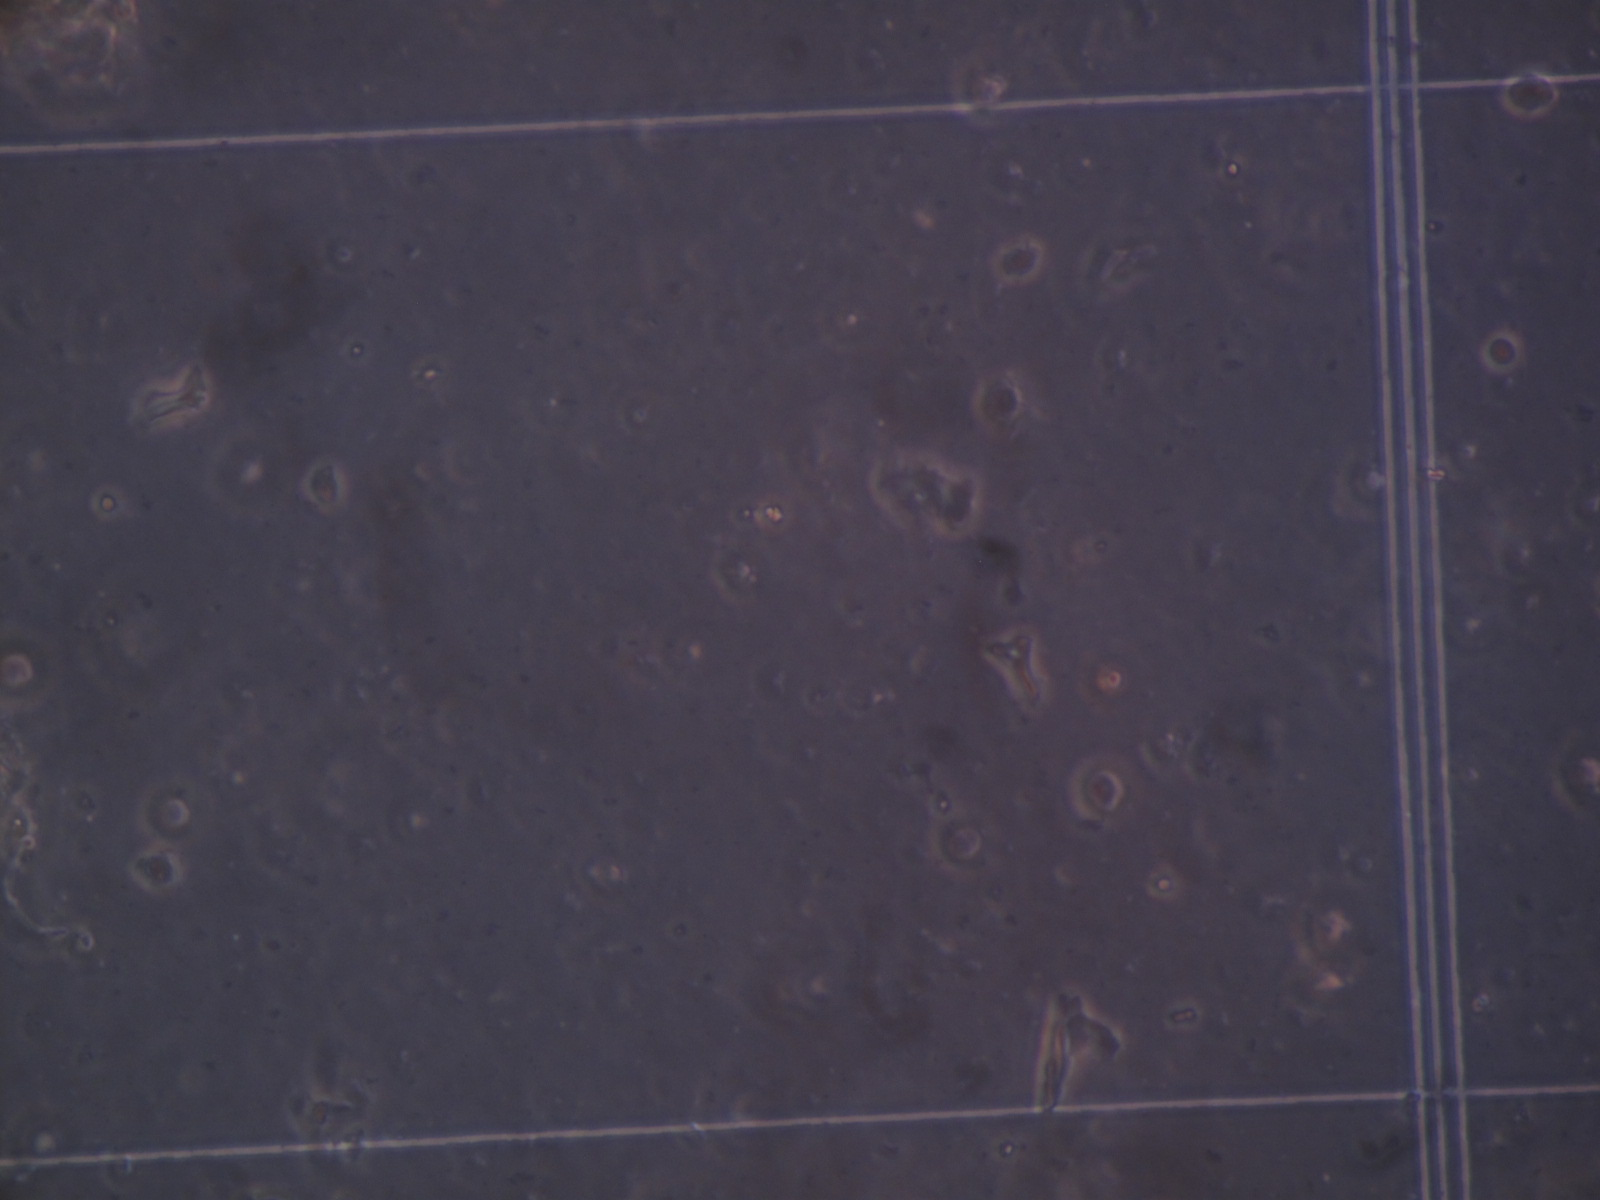hemo: (947, 53, 1010, 129), (1289, 900, 1348, 971), (1067, 756, 1128, 824), (1550, 741, 1600, 818), (136, 782, 193, 850), (929, 808, 983, 879), (973, 373, 1026, 436), (1, 630, 37, 712), (1500, 69, 1558, 118), (991, 234, 1044, 285), (130, 847, 181, 892), (302, 459, 346, 511), (1482, 332, 1521, 373)
